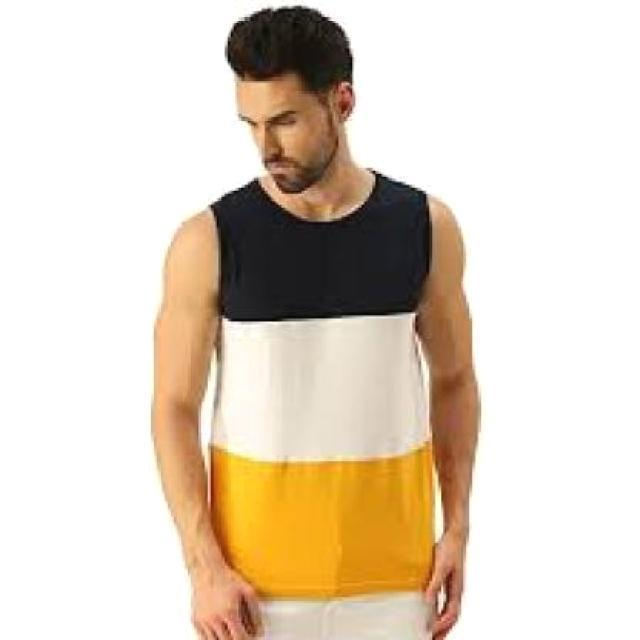no_vest: (205, 165, 438, 600)
